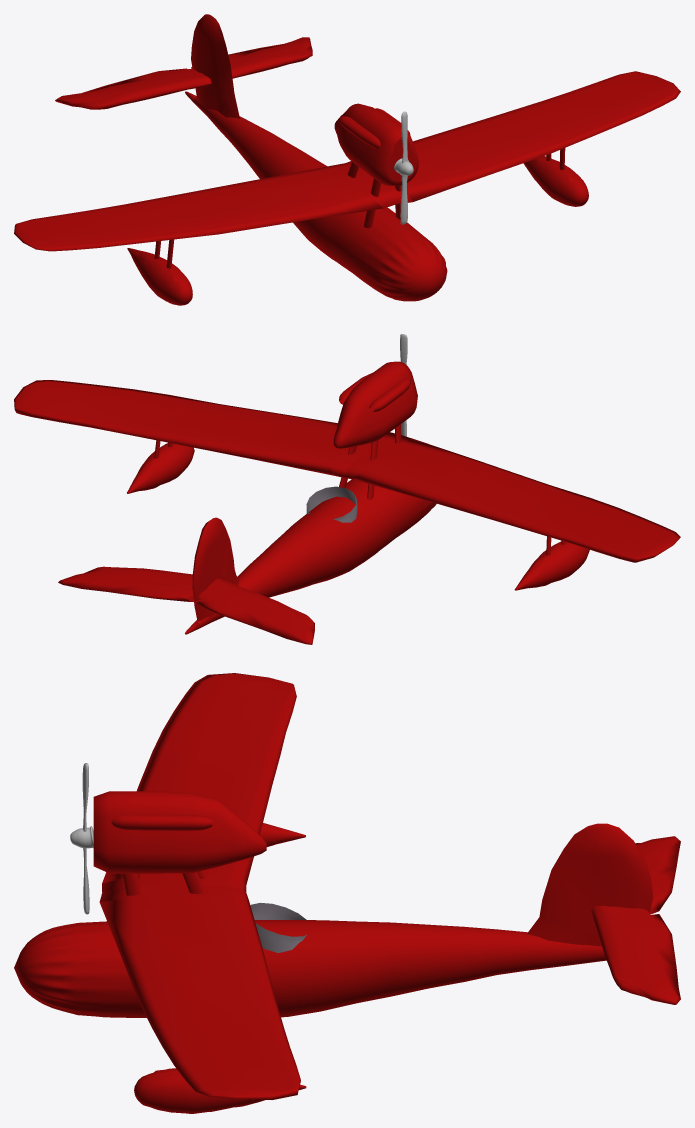
The picture shows the model from 3 angles, top to bottom: view 1: azimuth 30°, elevation 25°; view 2: azimuth 150°, elevation 25°; view 3: azimuth 270°, elevation 25°; orthographic projection. The views are drawn at different scales.
Visible parts, largest first — view 1: aile_D, aile_G, fuselage, moteur, aile_arriere006, aile_arriere000, aile_arriere007, flotteur_g003, flotteur_g003_001, moteur02; view 2: aile_D, aile_G, fuselage, moteur, aile_arriere006, aile_arriere007, aile_arriere000, flotteur_g003, flotteur_g003_001, parebrise, moteur02; view 3: fuselage, aile_G, aile_D, moteur, aile_arriere000, aile_arriere007, flotteur_g003_001, aile_arriere006, moteur03, parebrise.
Boxes of the visible parts, x1,y1,x2,y2 form: aile_D: (14, 163, 399, 251); aile_G: (346, 71, 680, 203); fuselage: (185, 91, 447, 301); moteur: (334, 103, 418, 186); aile_arriere006: (55, 68, 211, 109); aile_arriere000: (191, 14, 239, 118); aile_arriere007: (191, 37, 312, 78); flotteur_g003: (127, 248, 192, 305); flotteur_g003_001: (523, 156, 588, 206); moteur02: (339, 116, 380, 148); aile_D: (345, 434, 680, 562); aile_G: (14, 380, 394, 478); fuselage: (185, 479, 436, 634); moteur: (333, 361, 417, 448); aile_arriere006: (194, 578, 314, 644); aile_arriere007: (58, 566, 194, 601); aile_arriere000: (192, 517, 239, 620); flotteur_g003: (514, 541, 589, 590); flotteur_g003_001: (127, 442, 194, 493); parebrise: (306, 486, 357, 522); moteur02: (369, 378, 410, 411); fuselage: (14, 920, 606, 1017); aile_G: (99, 886, 300, 1099); aile_D: (102, 673, 296, 892); moteur: (93, 791, 266, 873); aile_arriere000: (527, 823, 653, 946); aile_arriere007: (591, 905, 680, 1004); flotteur_g003_001: (134, 1068, 306, 1113); aile_arriere006: (635, 836, 680, 914); moteur03: (111, 814, 212, 830); parebrise: (250, 902, 306, 952).
Bounding box in the file's own units: 34.56 × 22.9 × 9.49.
